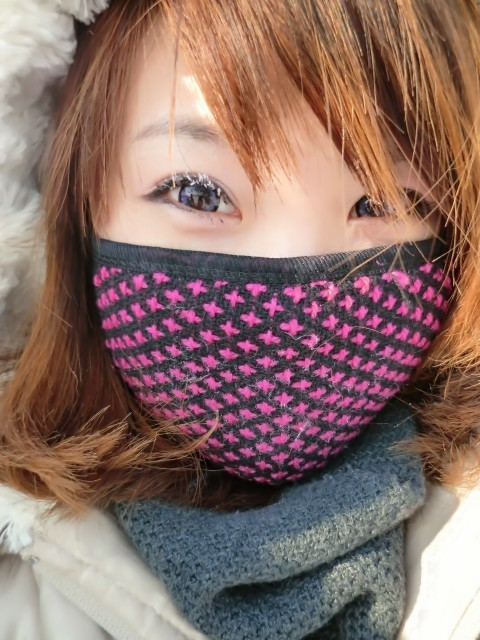face_mask: (86, 0, 451, 497)
